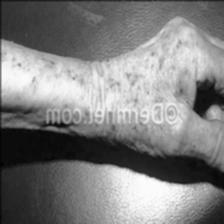Toxin: (122, 73, 142, 93), (173, 34, 187, 57), (11, 57, 26, 72)
